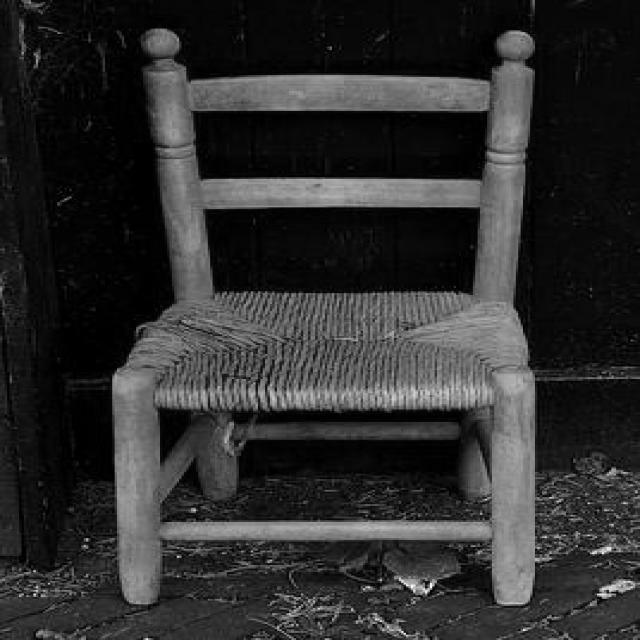chair: (109, 28, 538, 608)
